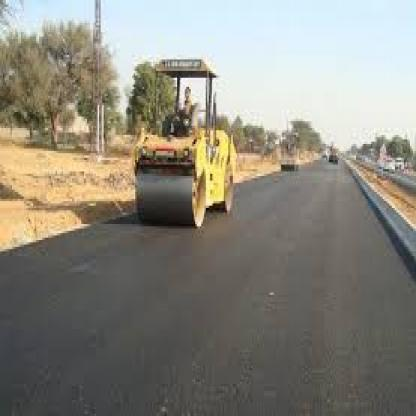car: (120, 35, 252, 253)
